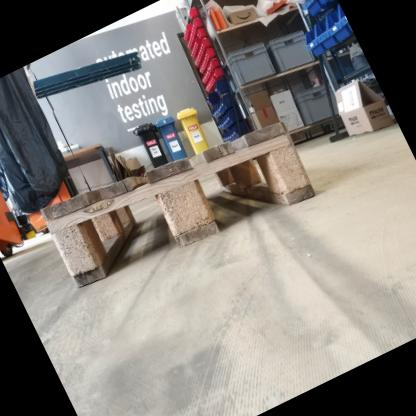BoxFace: (36, 117, 326, 297)
